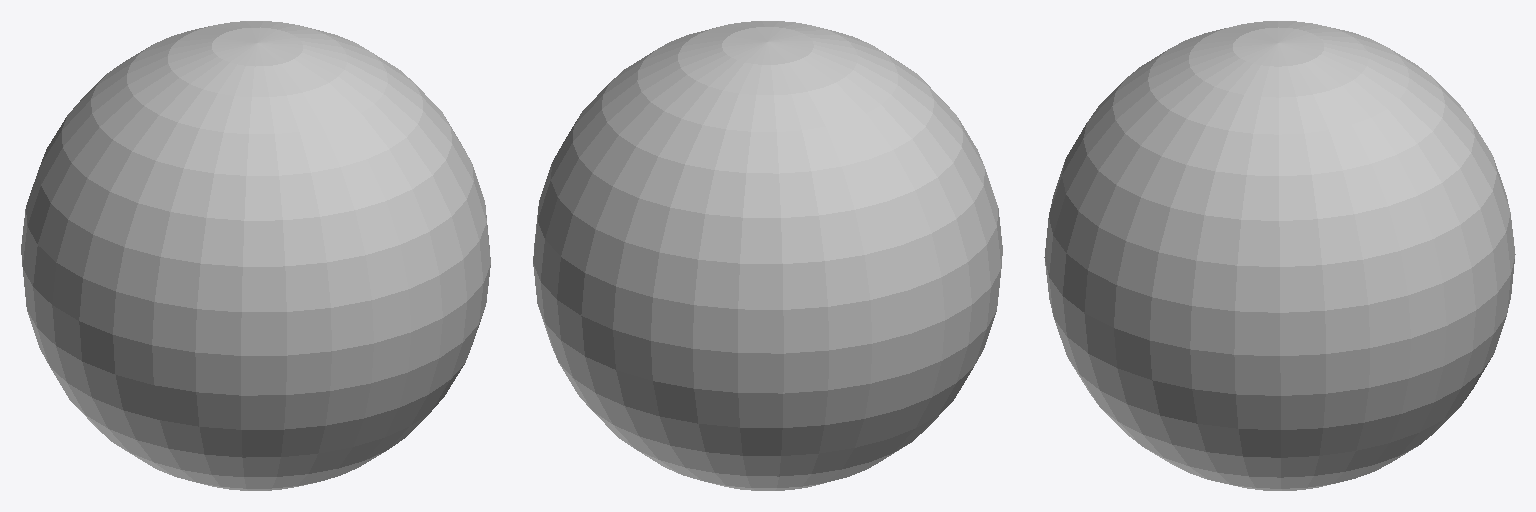
File: sphere-smooth.obj
The picture shows the model from 3 angles: view 1: azimuth 30°, elevation 25°; view 2: azimuth 150°, elevation 25°; view 3: azimuth 270°, elevation 25°; orthographic projection.
Visible parts, largest first — view 1: Sphere_Sphere_Material; view 2: Sphere_Sphere_Material; view 3: Sphere_Sphere_Material.
Boxes of the visible parts, box(x1,y1,x2,y2) form: Sphere_Sphere_Material: box(21, 21, 490, 490); Sphere_Sphere_Material: box(533, 21, 1002, 490); Sphere_Sphere_Material: box(1044, 21, 1515, 490).
Size of the model in its own units: 57.79 by 57.79 by 57.79.